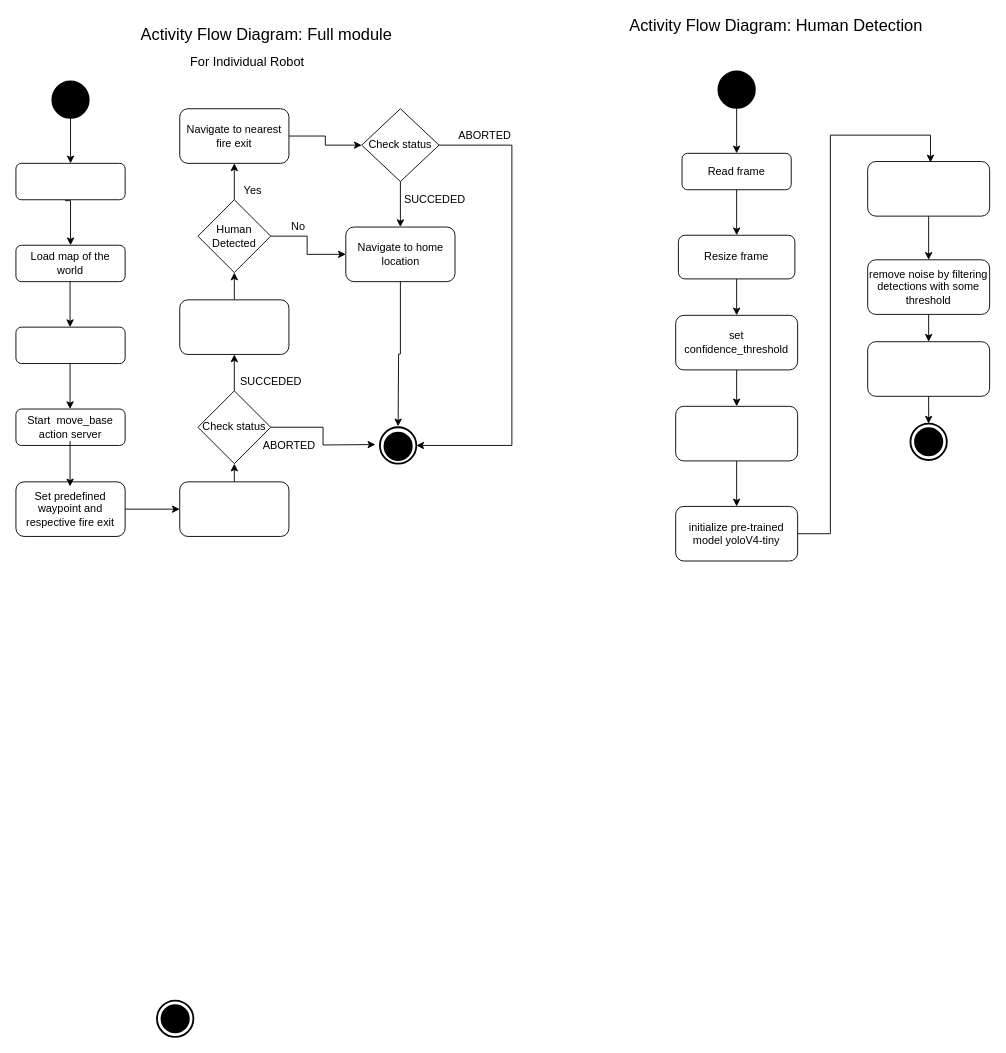
The diagram is 1006 pixels wide and 1053 high, and some of its shapes have lost their labels. The centre of each missing label's shape, as x and y in pixels:
get detections on the frame: (x=928, y=188)
initialize default parameters for detector: (x=736, y=433)
Navigate to waypoint: (x=234, y=508)
send filtered detections for further processing: (x=928, y=368)
Spawn robot to home location: (x=70, y=181)
Start Human Detection: (x=234, y=326)
Start localization (AMCL) node: (x=70, y=345)
